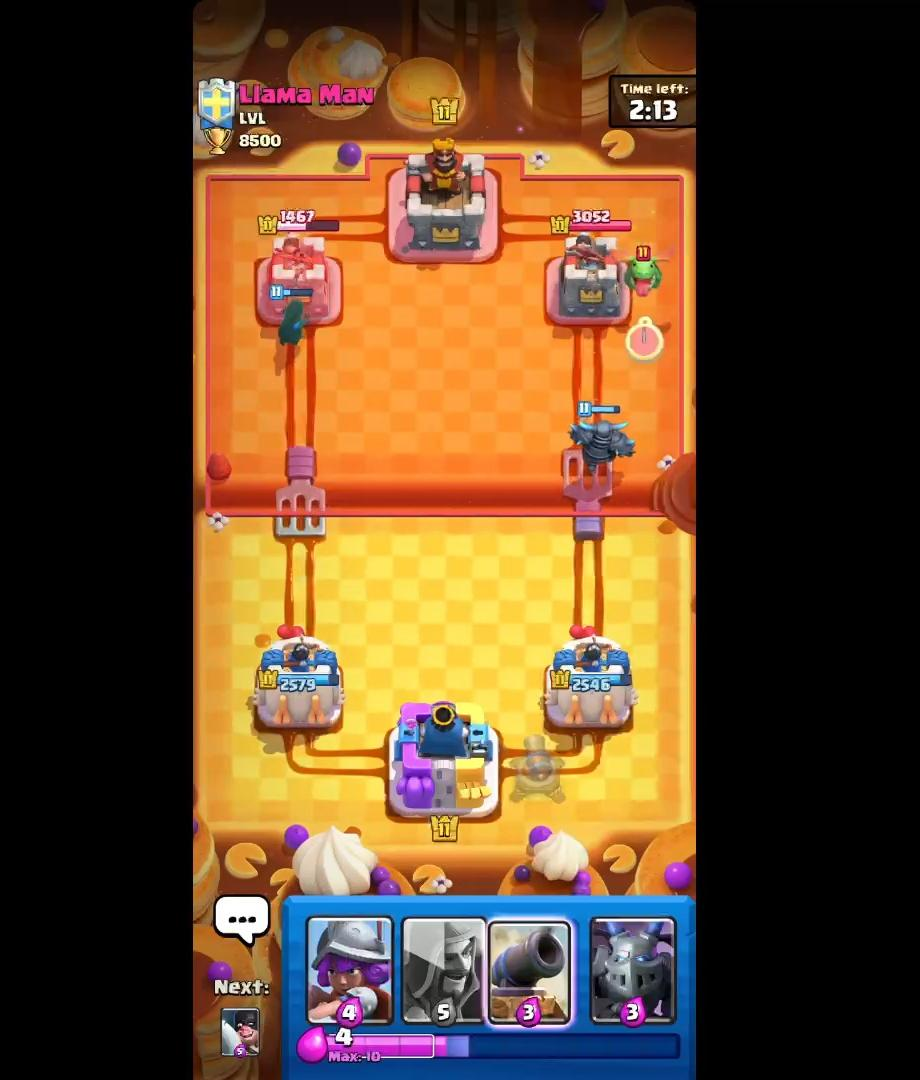Baby Dragon: (619, 239, 673, 304)
